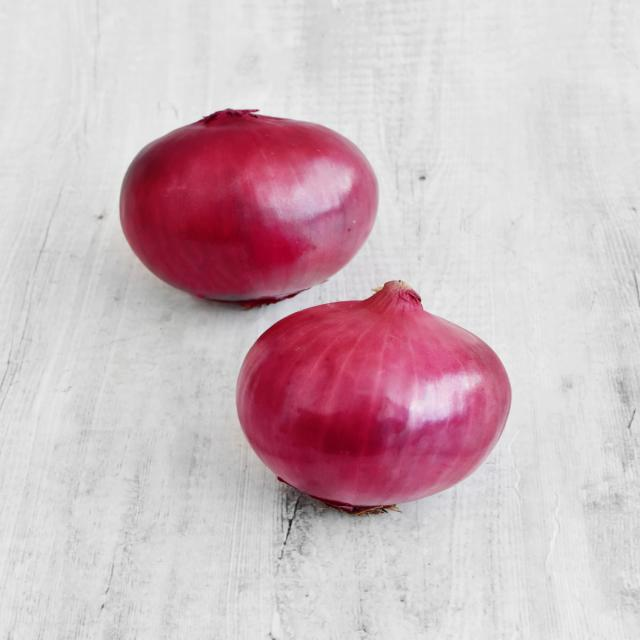onion: (67, 68, 546, 529)
